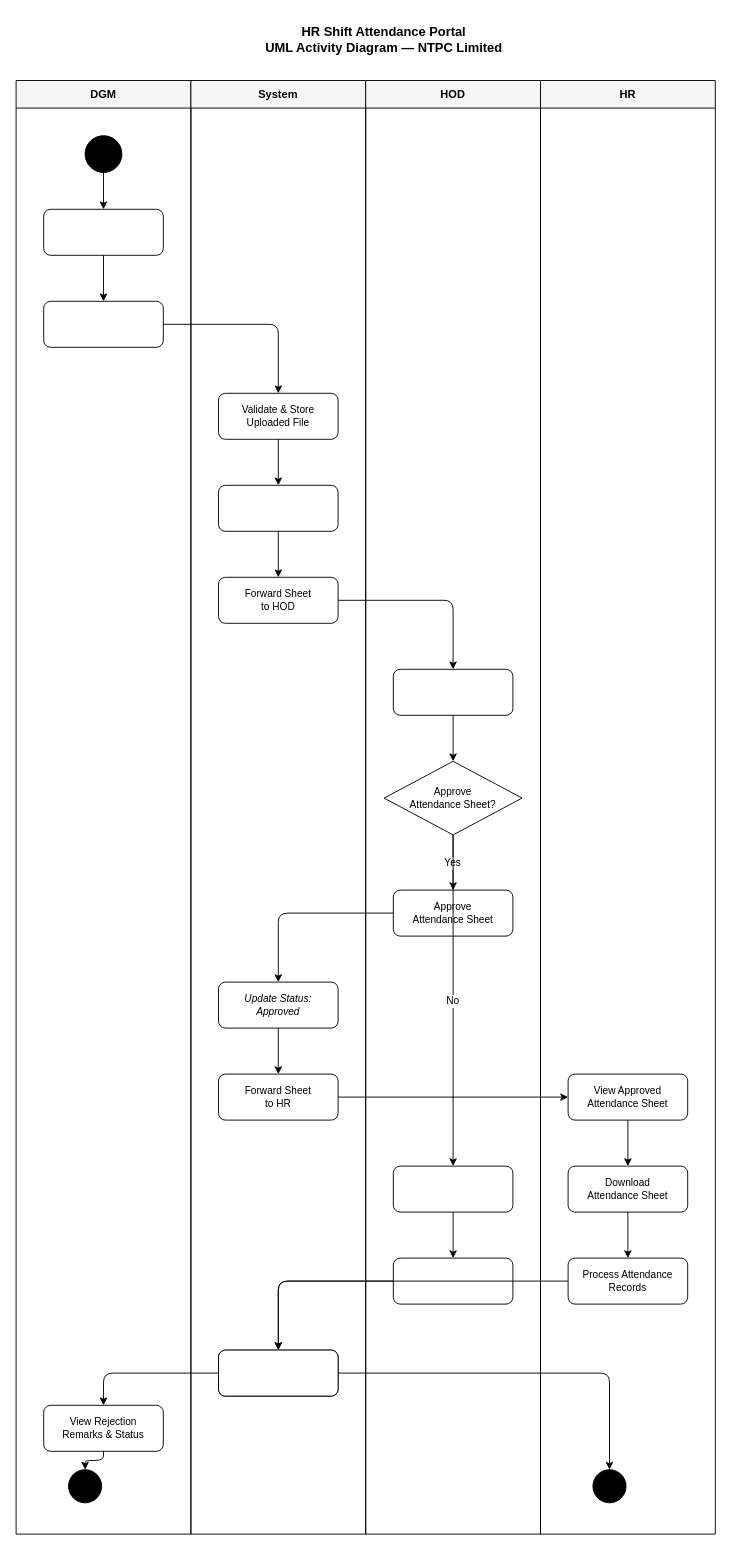
The diagram is 731 pixels wide and 1550 high, and some of its shapes have lost their labels. The shapes that lost their labels are listed below. From the top down, each one's centre as x and y in pixels, then its label:
At (103,231): "Login to Portal".
At (103,323): "Upload Attendance Excel Sheet".
At (278,507): "Set Status: Pending Review".
At (452,691): "Receive Notification & Review Sheet".
At (452,1188): "Reject Attendance Sheet".
At (452,1280): "Enter Rejection Remarks".
At (278,1372): "Update Status: Processed".
